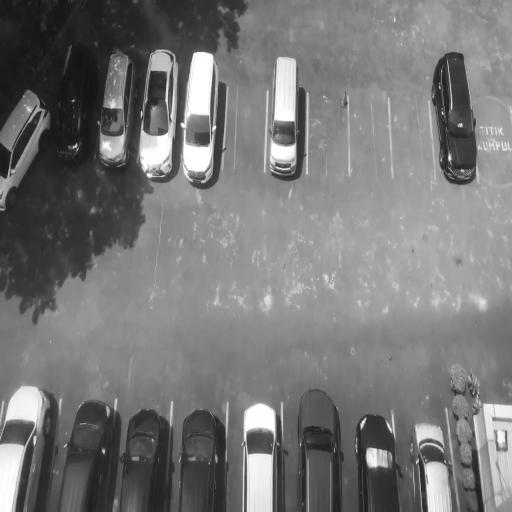Car: (426, 47, 482, 191), (0, 81, 53, 229), (0, 379, 51, 512), (58, 396, 114, 512), (294, 385, 341, 512), (53, 33, 95, 172), (180, 46, 220, 189), (138, 45, 180, 181), (96, 42, 138, 172), (118, 404, 166, 512), (176, 404, 223, 512), (267, 44, 303, 184), (237, 398, 281, 512), (352, 408, 398, 512), (406, 416, 455, 512)
Space Available: (389, 95, 435, 176), (224, 83, 266, 169), (350, 91, 391, 173), (308, 89, 348, 172), (472, 103, 512, 182)
